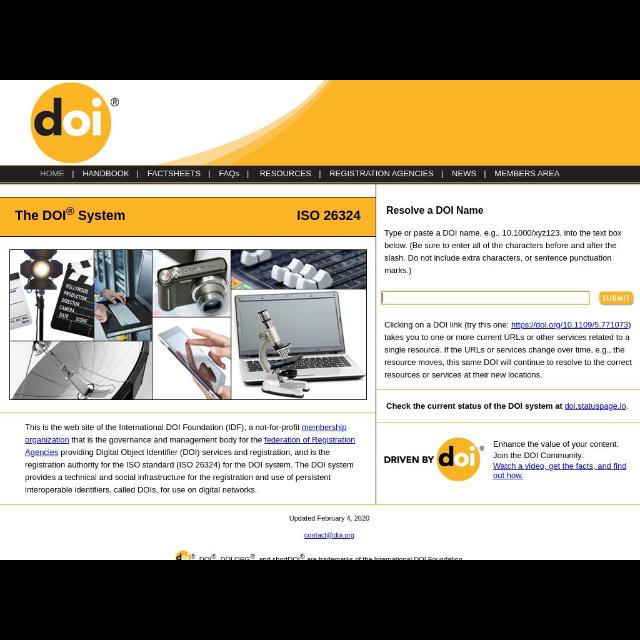image: (1, 80, 639, 166), (11, 250, 367, 400), (384, 438, 484, 482)
input: (382, 292, 590, 304)
link: (493, 463, 627, 479), (512, 322, 628, 330), (264, 437, 356, 445), (566, 404, 626, 411), (302, 424, 348, 432), (24, 437, 70, 445), (304, 533, 354, 539), (26, 449, 58, 456)
multitab: (1, 166, 639, 184)
text: (26, 424, 356, 496), (385, 322, 633, 378), (386, 230, 622, 276), (494, 442, 618, 461), (387, 403, 628, 411), (15, 208, 125, 224), (387, 206, 483, 214), (297, 211, 361, 221), (290, 516, 370, 522), (602, 295, 630, 301)
textbutton: (600, 292, 634, 304)
